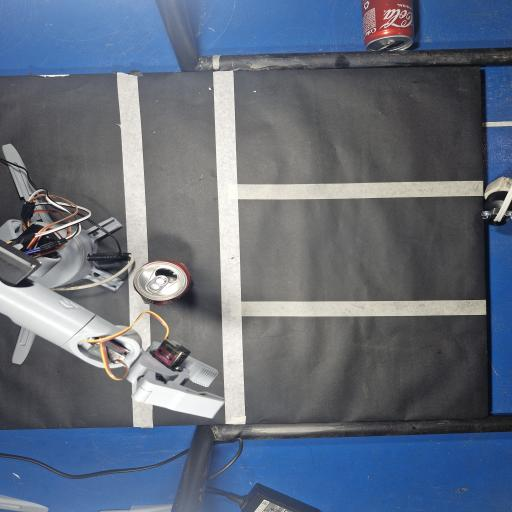lata_defectuoso: (134, 261, 190, 305)
